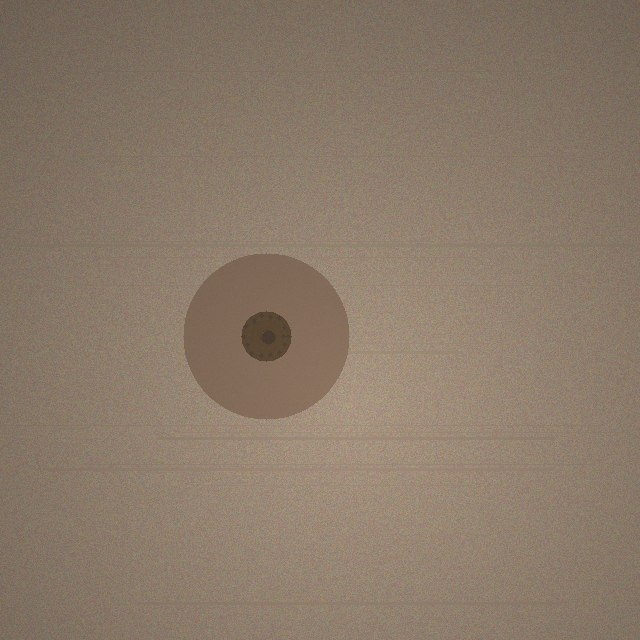cold_weld: (183, 253, 349, 419)
